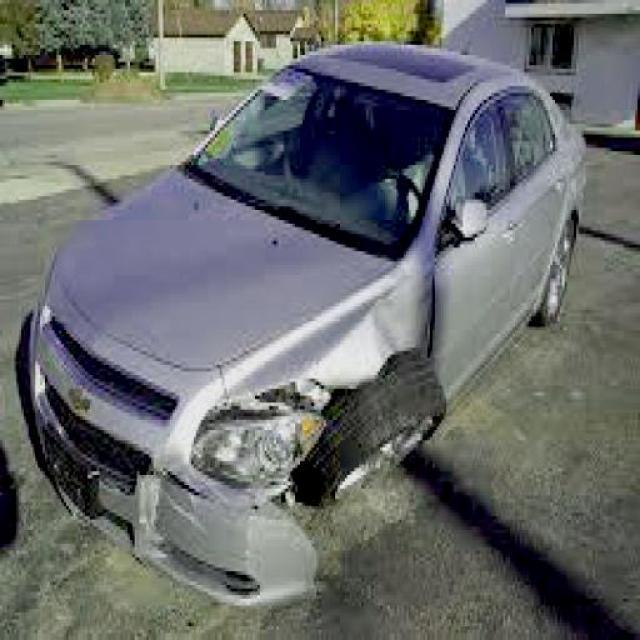car damage: (77, 251, 435, 594)
